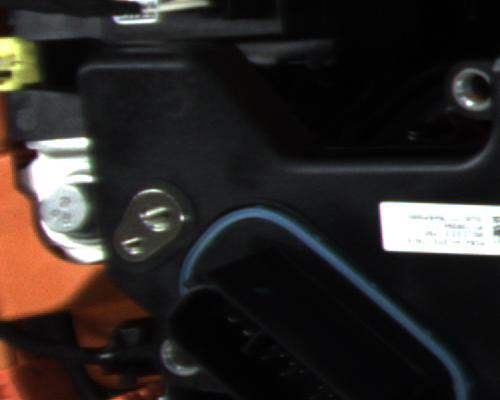nut_b: (40, 167, 103, 247)
